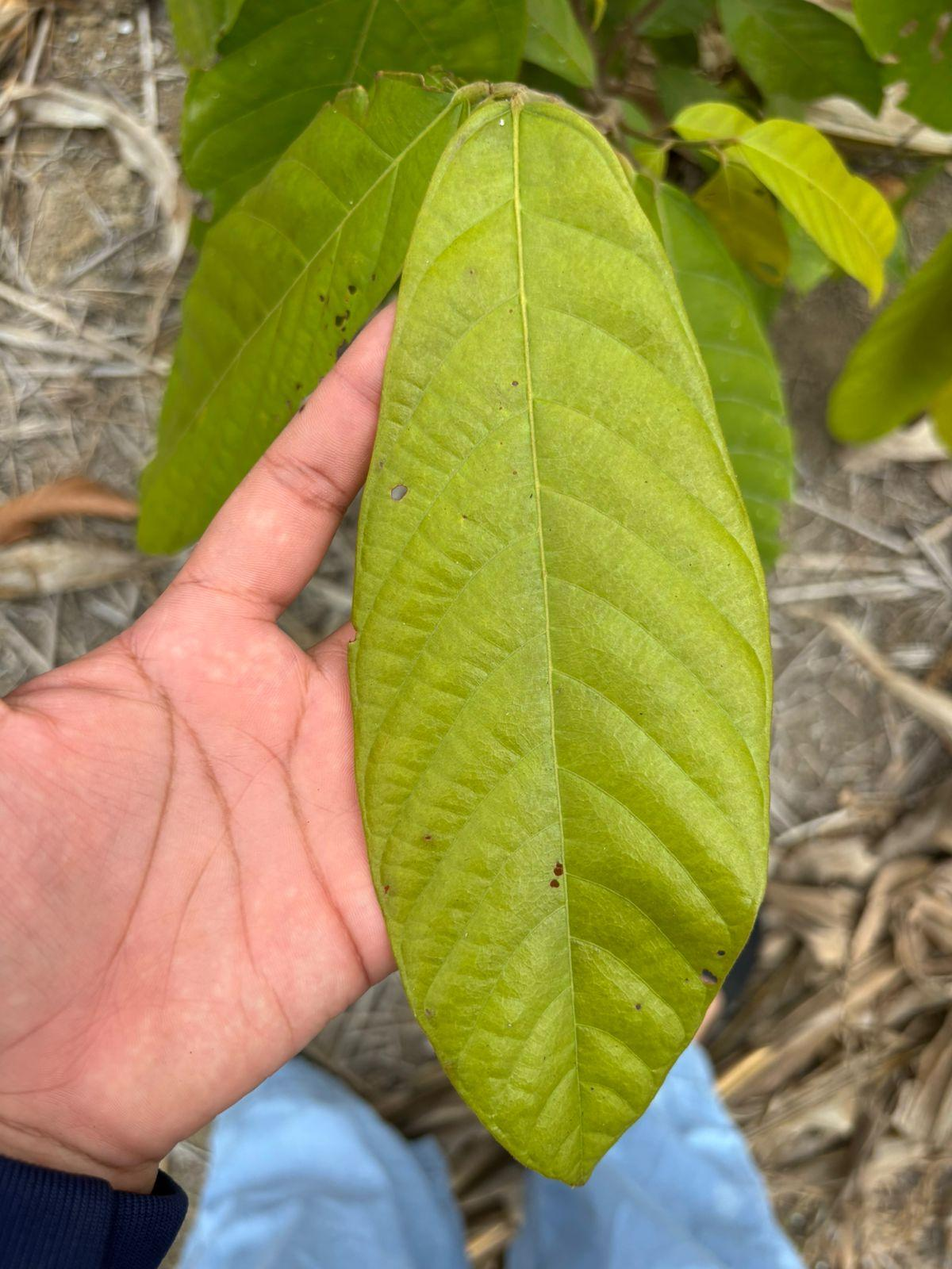Nitrogeno: (351, 88, 770, 1183)
